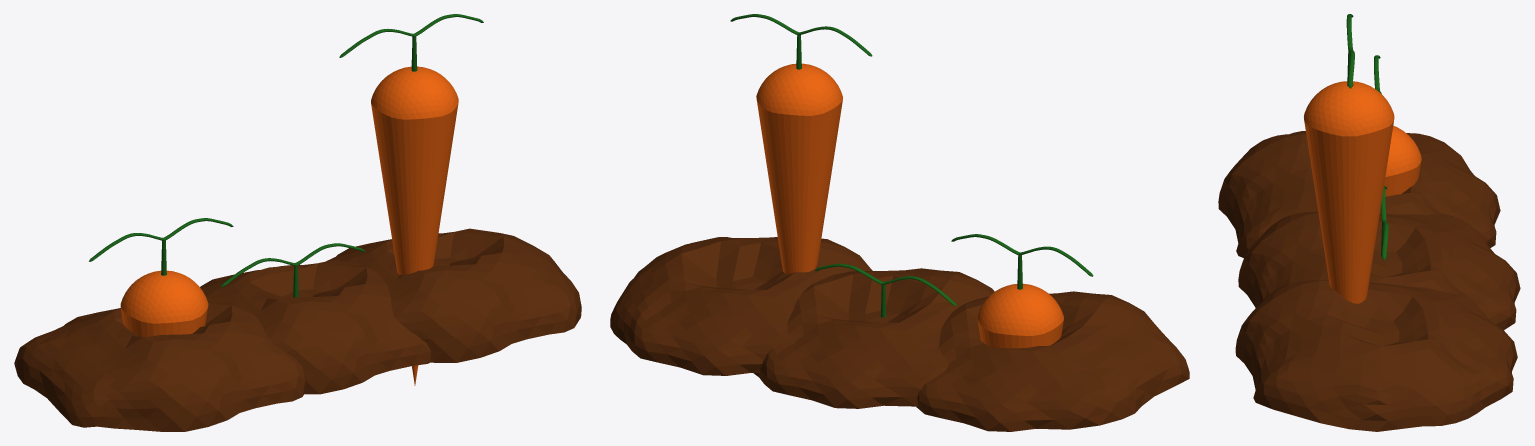
Rendered from Low_Poly_Carrot.fbx.
3 views of the same model, side by side, from view 1: azimuth 30°, elevation 25°; view 2: azimuth 150°, elevation 25°; view 3: azimuth 270°, elevation 25° (orthographic). The views are drawn at different scales.
Visible parts, largest first — view 1: Stage2, Soil, Stage1, Carrot; view 2: Stage2, Stage1, Soil, Carrot; view 3: Soil, Stage1, Stage2, Carrot.
Boxes of the visible parts, bbox=[...] form: Stage2: bbox=[14, 218, 307, 431]; Soil: bbox=[326, 228, 581, 362]; Stage1: bbox=[200, 243, 431, 394]; Carrot: bbox=[339, 14, 483, 385]; Stage2: bbox=[916, 234, 1189, 431]; Stage1: bbox=[753, 263, 994, 408]; Soil: bbox=[610, 237, 872, 375]; Carrot: bbox=[730, 14, 872, 273]; Soil: bbox=[1235, 280, 1517, 431]; Stage1: bbox=[1238, 186, 1520, 329]; Stage2: bbox=[1218, 55, 1500, 257]; Carrot: bbox=[1304, 14, 1394, 303].
Size of the model in its own units: 388 by 257 by 187.
